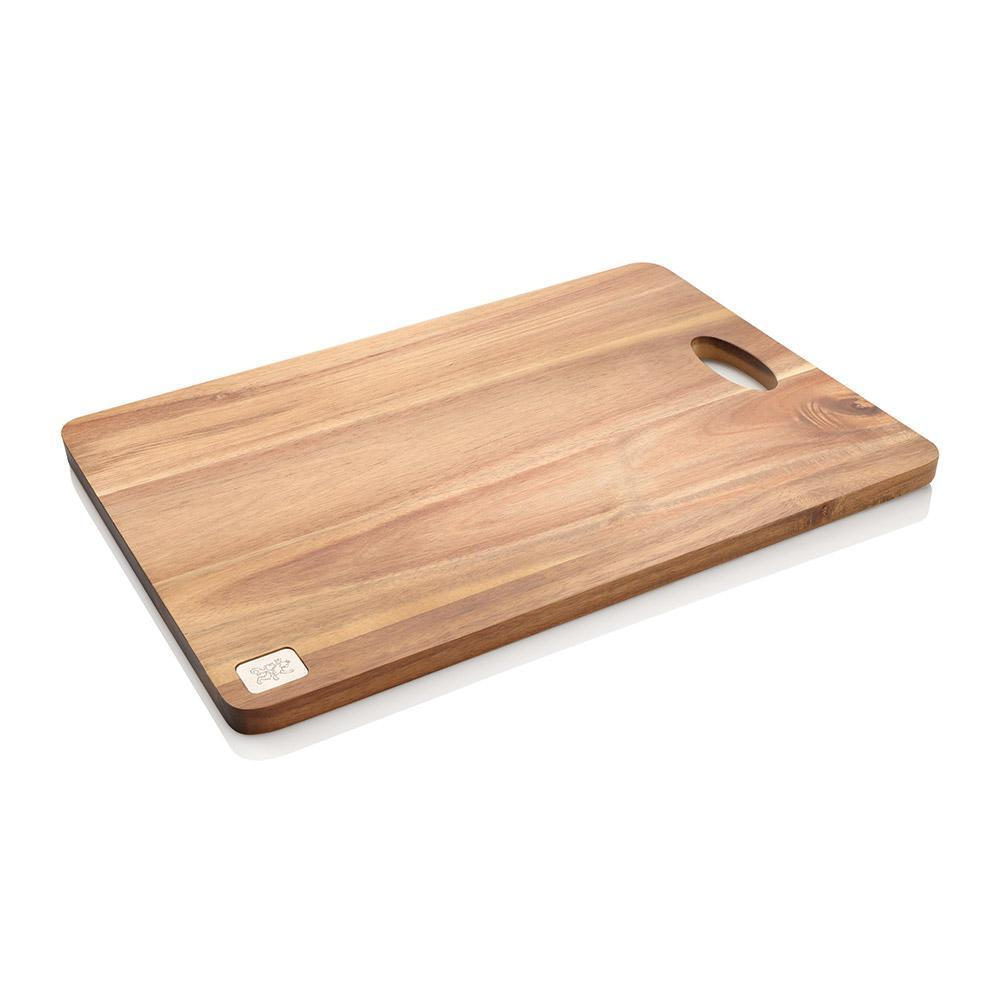gloved_hand: (55, 248, 945, 755)
